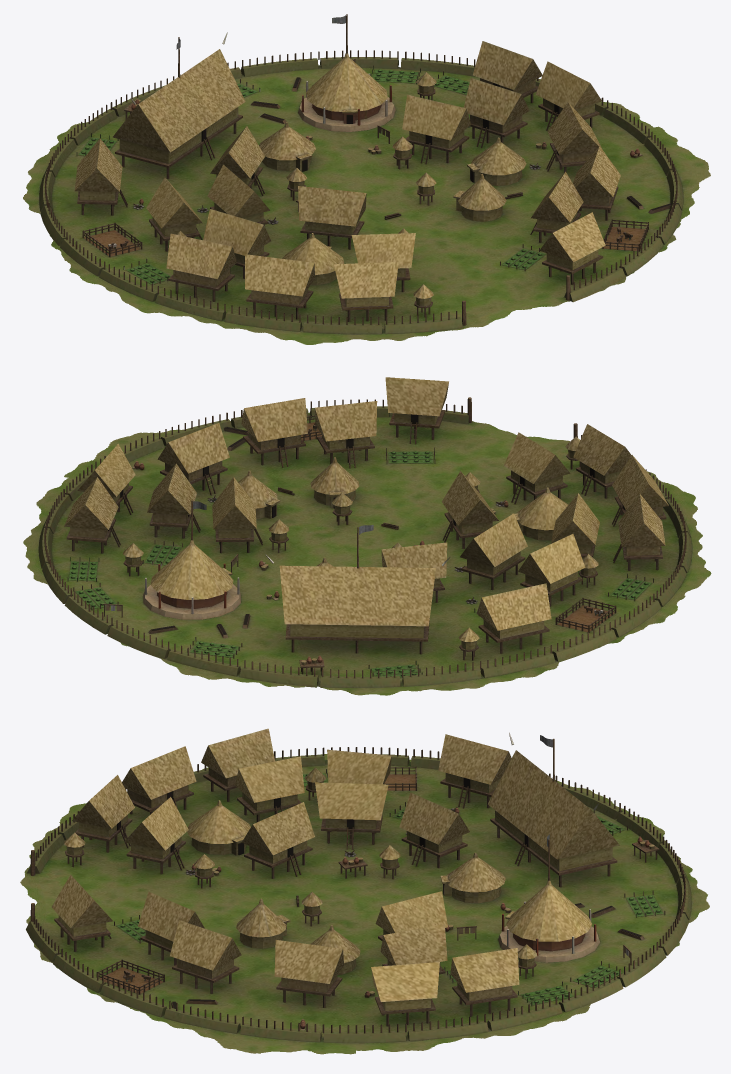
Rendered from stone-town-big-b-monsoon.glb.
3 views of the same model, one above another, from view 1: azimuth 30°, elevation 25°; view 2: azimuth 150°, elevation 25°; view 3: azimuth 270°, elevation 25° (orthographic). The views are drawn at different scales.
Parts seen in each view (by area): view 1: LOD0; view 2: LOD0; view 3: LOD0.
Boxes of the visible parts, x1,y1,x2,y2 form: LOD0: [23, 14, 710, 344]; LOD0: [23, 377, 711, 695]; LOD0: [20, 728, 709, 1054].
Size of what is drawn, in the model's own units: 7.96 by 1.45 by 7.69.
Materials: 3 (3 with a texture image).
